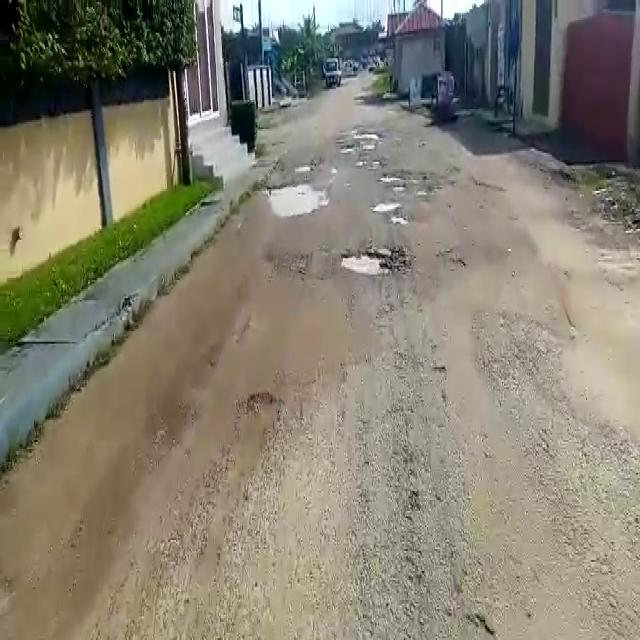Pothole: (336, 244, 410, 278), (268, 180, 328, 219), (378, 172, 420, 190), (372, 203, 402, 214), (388, 214, 408, 225)
